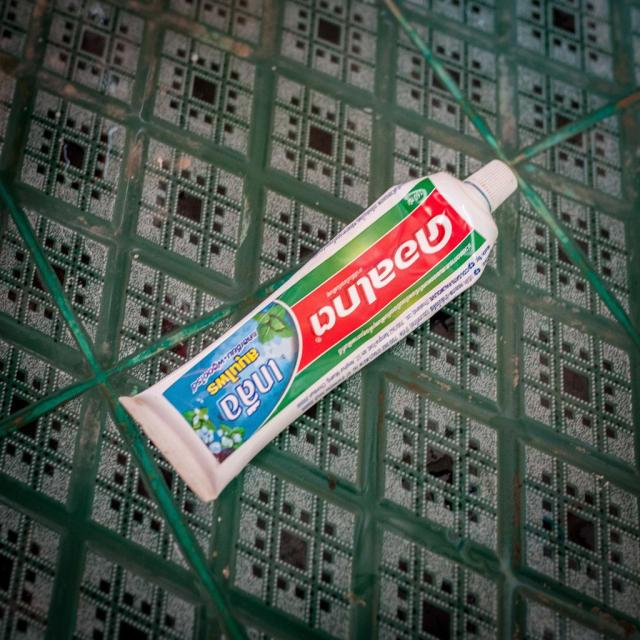Toothpaste: (122, 160, 522, 503)
